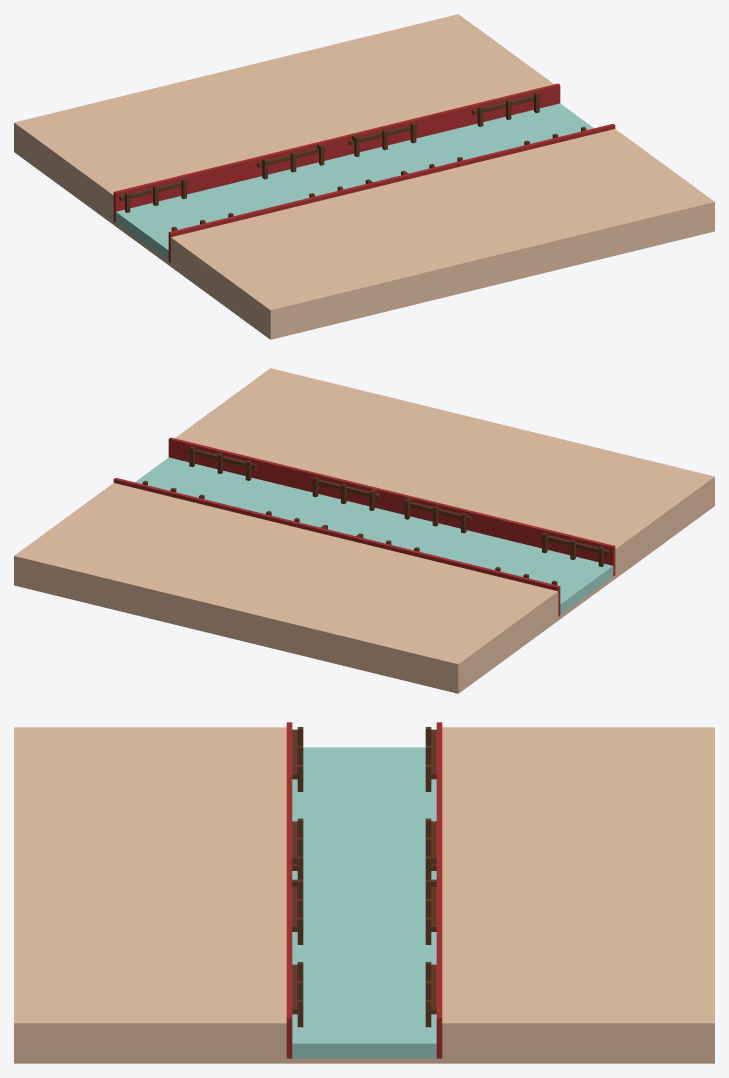
File: hiraya-4.obj
The picture shows the model from 3 angles, top to bottom: view 1: azimuth 30°, elevation 25°; view 2: azimuth 150°, elevation 25°; view 3: azimuth 270°, elevation 25°; orthographic projection. The views are drawn at different scales.
Visible parts, largest first — view 1: hiraya-4; view 2: hiraya-4; view 3: hiraya-4.
Part boxes in pixels (x1,y1,x2,y2): hiraya-4: (14,14,714,339); hiraya-4: (14,368,714,693); hiraya-4: (14,722,714,1063).
Size of the model in its own units: 126 by 9 by 126.
1 material, 1 textured.
